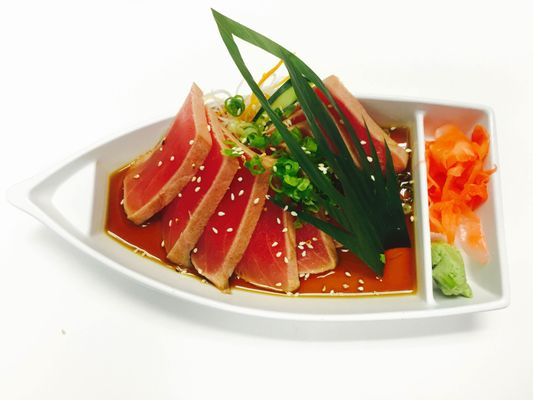curry: (431, 242, 473, 299)
